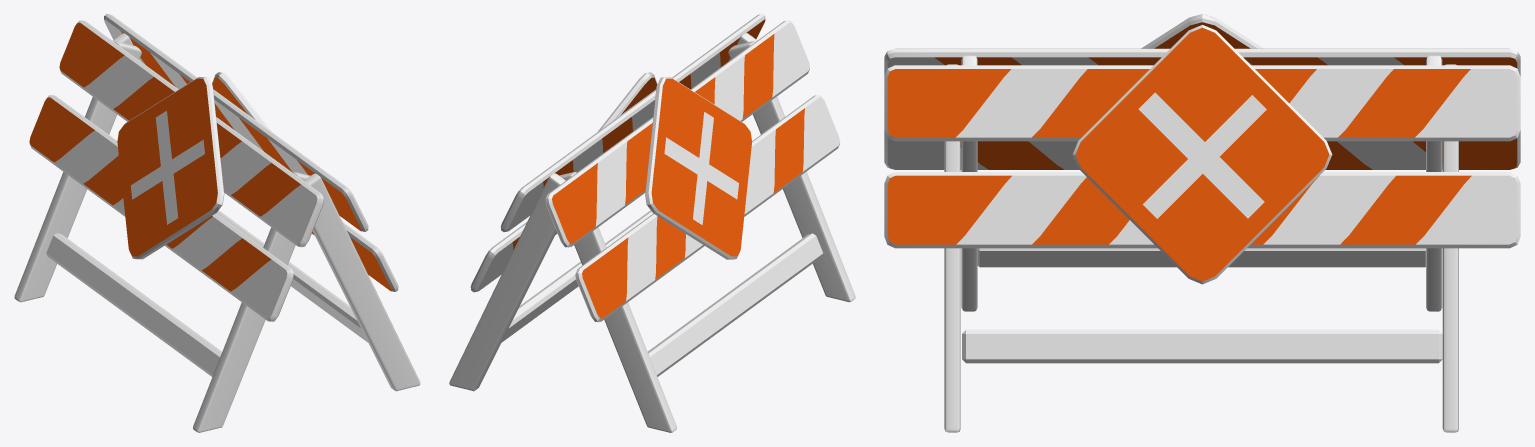
File: engel_2_geo.fbx
3 views of the same model, side by side, from view 1: azimuth 30°, elevation 25°; view 2: azimuth 150°, elevation 25°; view 3: azimuth 270°, elevation 25° (orthographic). The views are drawn at different scales.
Visible parts, largest first — view 1: engel_2; view 2: engel_2; view 3: engel_2.
Boxes of the visible parts, x1,y1,x2,y2 form: engel_2: [14, 14, 420, 432]; engel_2: [449, 14, 855, 432]; engel_2: [884, 14, 1520, 432].
Size of the model in its own units: 2.52 by 2.94 by 4.91.
